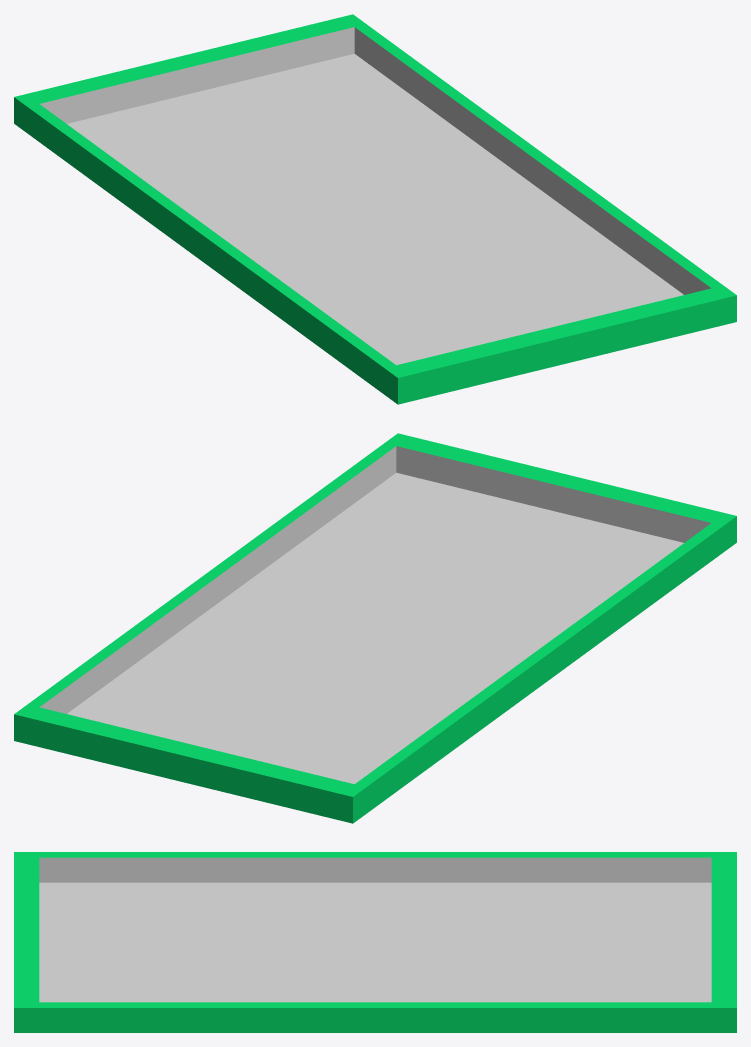
Rendered from pool.dae.
The picture shows the model from 3 angles, top to bottom: view 1: azimuth 30°, elevation 25°; view 2: azimuth 150°, elevation 25°; view 3: azimuth 270°, elevation 25°; orthographic projection. The views are drawn at different scales.
Parts seen in each view (by area): view 1: Pool; view 2: Pool; view 3: Pool.
Boxes of the visible parts, box(x1,y1,x2,y2) form: Pool: box(14, 14, 736, 404); Pool: box(14, 433, 736, 823); Pool: box(14, 852, 736, 1032).
Bounding box in the file's own units: 27.96 × 54.85 × 2.1.
